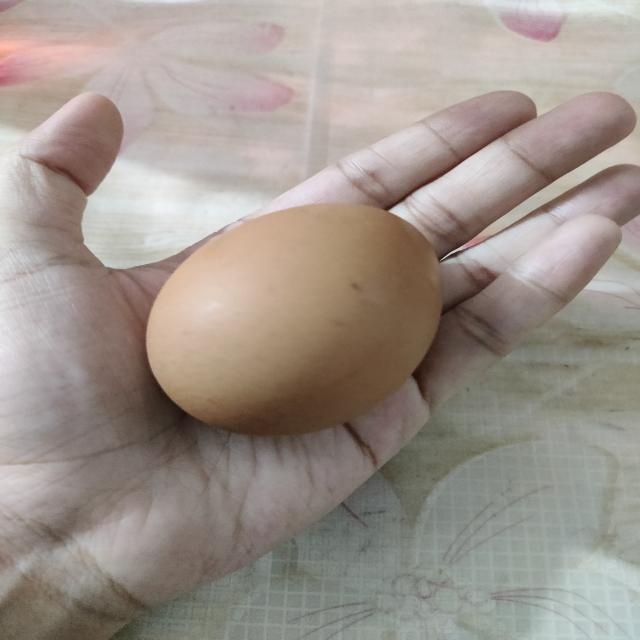egg: (140, 200, 450, 434)
